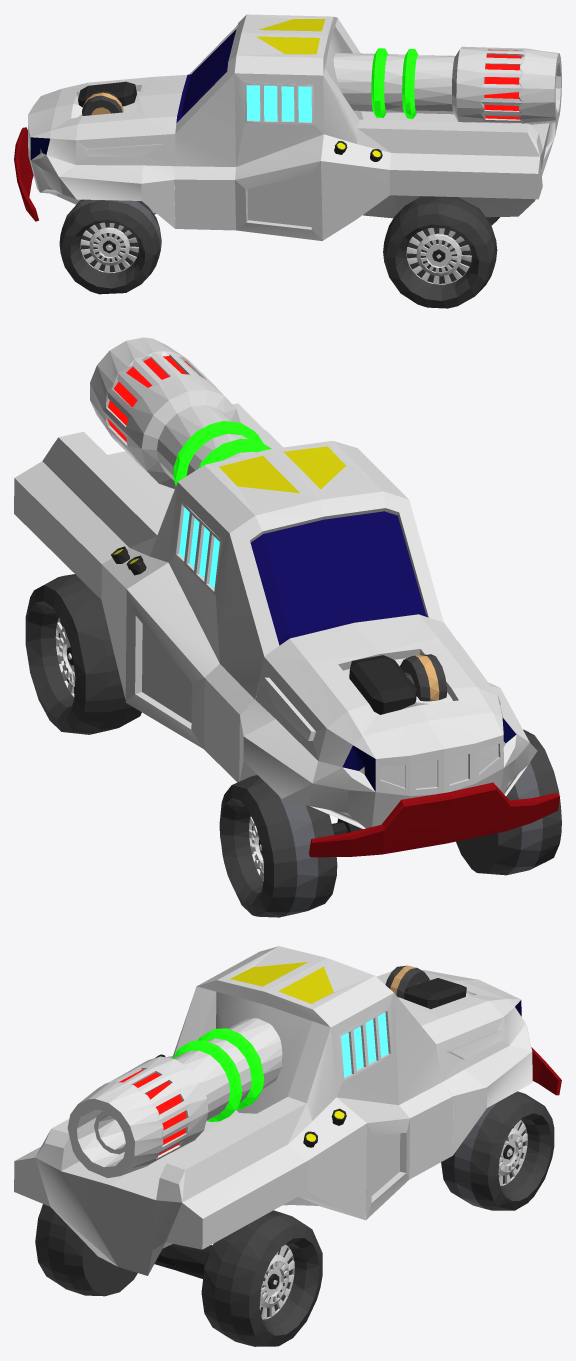
The model's file is car6_LOD1.fbx.
3 renders of one model, top to bottom at view 1: azimuth 30°, elevation 25°; view 2: azimuth 150°, elevation 25°; view 3: azimuth 270°, elevation 25°, orthographic. The views are drawn at different scales.
Parts seen in each view (by area): view 1: car6; view 2: car6; view 3: car6.
Part boxes in pixels (x1=…): car6: x1=14, y1=14, x2=561, y2=308; car6: x1=14, y1=337, x2=561, y2=917; car6: x1=14, y1=946, x2=561, y2=1346.
Size of the model in its own units: 312 by 149 by 270.
